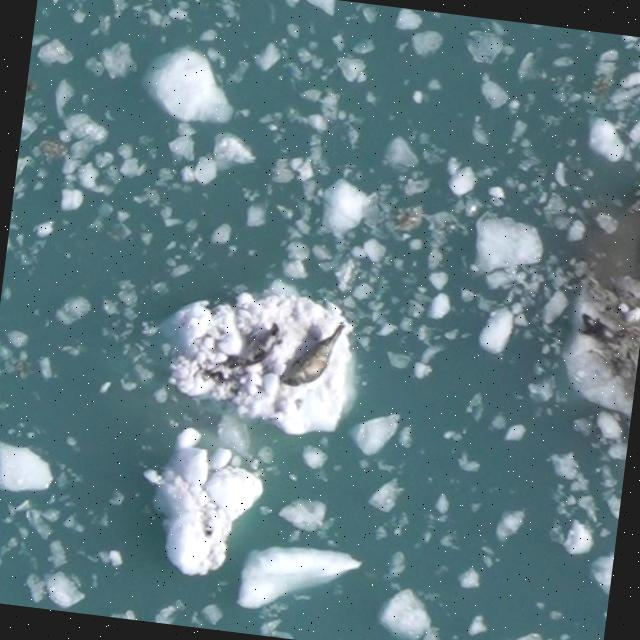seal: (275, 318, 358, 402)
